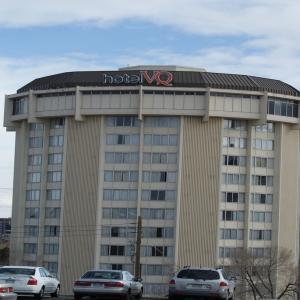Vehicle-registration-plate: (193, 285, 203, 290), (7, 281, 16, 285), (94, 285, 104, 288)
